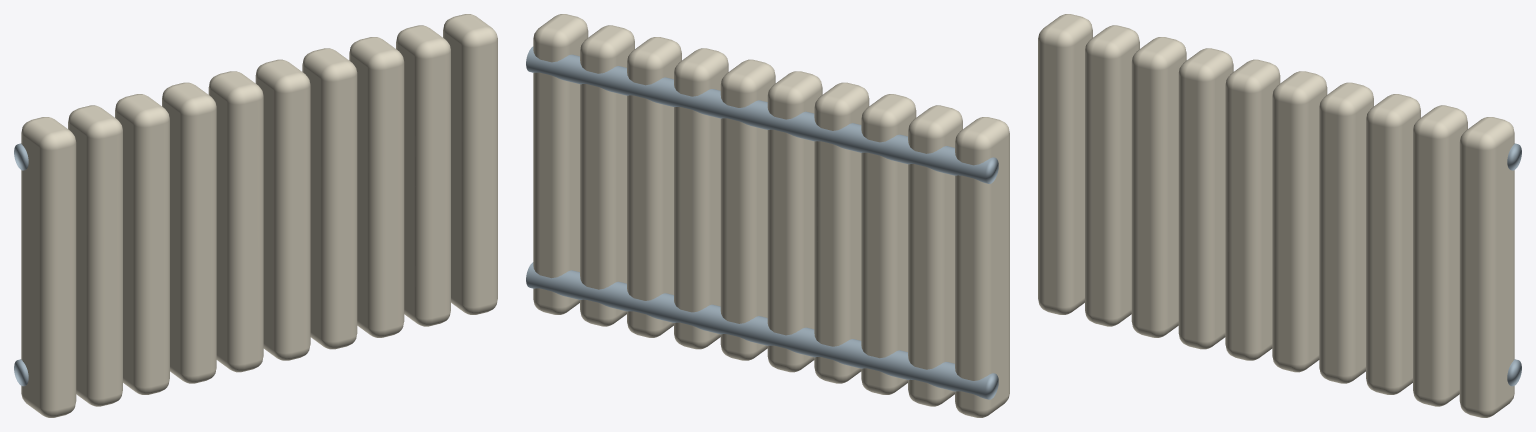
Rendered from Radiator.glb.
3 views of the same model, side by side, from view 1: azimuth 30°, elevation 25°; view 2: azimuth 150°, elevation 25°; view 3: azimuth 330°, elevation 25° (orthographic).
Parts seen in each view (by area): view 1: Radiator; view 2: Radiator; view 3: Radiator.
Boxes of the visible parts, bbox=[...] form: Radiator: bbox=[14, 14, 497, 417]; Radiator: bbox=[526, 14, 1009, 417]; Radiator: bbox=[1038, 14, 1521, 417].
Bounding box in the file's own units: 0.98 × 0.58 × 0.114.
